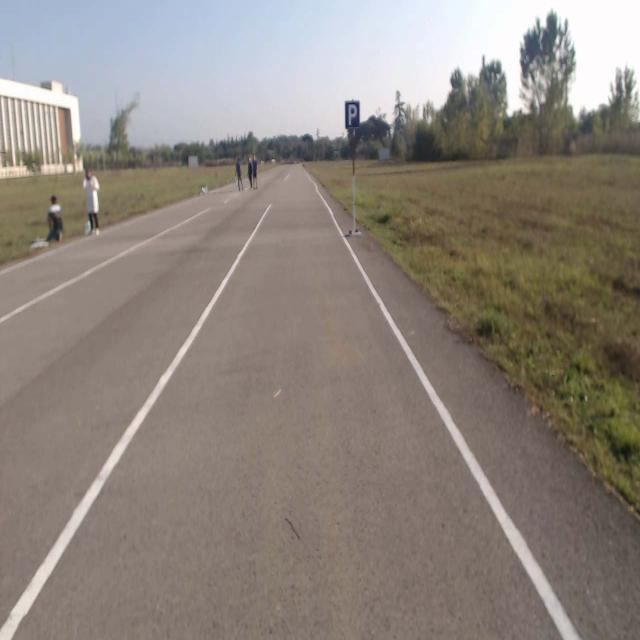park: (345, 100, 359, 128)
